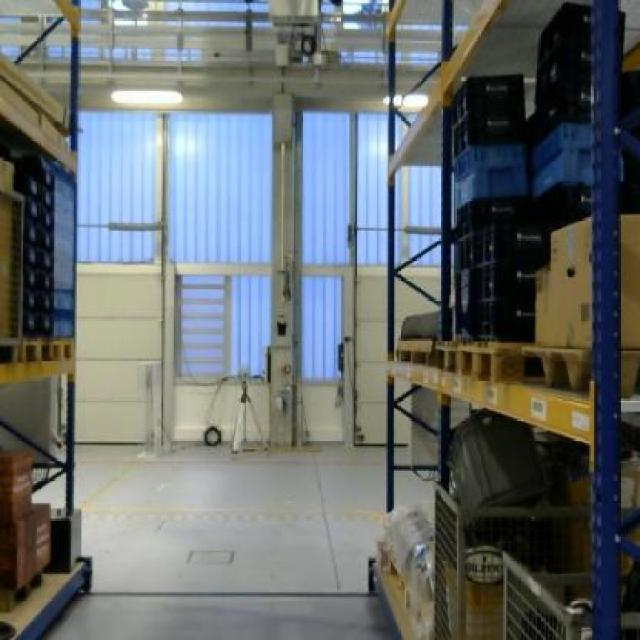box: (546, 212, 640, 348)
